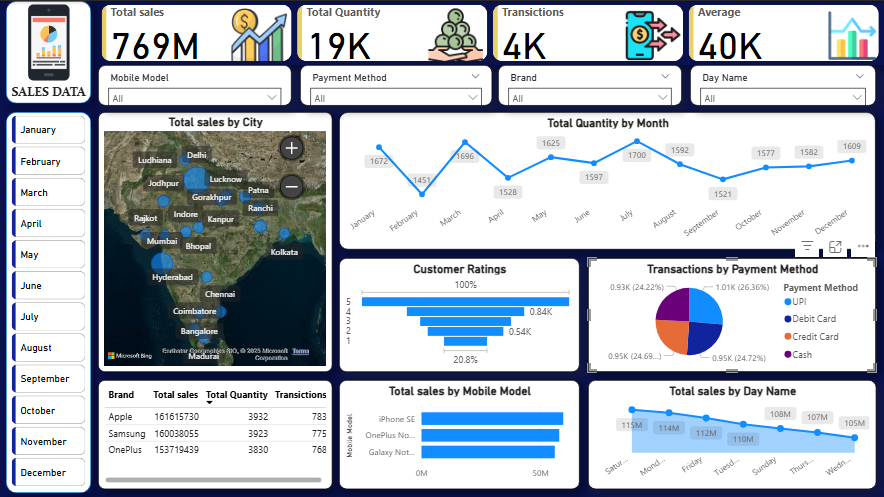

This screenshot's page, from the dashboard's own definition file:
{"tool":"powerbi","page":{"name":"Page 1","canvas":[1280,720],"ordinal":0},"visuals":[{"type":"cardVisual","fields":{"Data":["Sheet1.Total sales","Sheet1.Total Quantity","Sheet1.Transictions","Avg(Sheet1.Price Per Unit)"]},"box":[143.2,0,1136.8,92.6],"z":0},{"type":"shape","box":[10.1,0,122.9,148.2],"z":1000},{"type":"shape","box":[10.1,160,122.9,550.7],"z":2000},{"type":"advancedSlicerVisual","fields":{"Values":["Sheet1.Date.Variation.Date Hierarchy.Month"]},"box":[13.5,160,117.9,550.7],"z":3000},{"type":"map","fields":{"Category":["Sheet1.City"],"Size":["Sheet1.Total sales"]},"box":[143.2,160,338.5,375.6],"z":4000},{"type":"tableEx","fields":{"Values":["Sheet1.Brand","Sheet1.Total sales","Sheet1.Total Quantity","Sheet1.Transictions"]},"box":[142.8,547.6,339.3,157.9],"z":5000},{"type":"lineChart","fields":{"Y":["Sheet1.Total Quantity"],"Category":["Sheet1.Date.Variation.Date Hierarchy.Month","Sheet1.Date.Variation.Date Hierarchy.Day"]},"box":[491.8,160,776.4,198.7],"z":6000},{"type":"funnel","title":" Customer Ratings ","fields":{"Category":["Sheet1.Customer Ratings"],"Y":["CountNonNull(Sheet1.Customer Ratings)"]},"box":[492.2,371.2,347.7,164.6],"z":7000},{"type":"pieChart","title":" Transactions by Payment Method","fields":{"Y":["CountNonNull(Sheet1.Transaction ID)"],"Category":["Sheet1.Payment Method"]},"box":[851.7,371.2,416.6,164.6],"z":8000},{"type":"barChart","fields":{"Y":["Sheet1.Total sales"],"Category":["Sheet1.Mobile Model"]},"box":[492.2,547.6,347.7,157.9],"z":9000},{"type":"areaChart","fields":{"Y":["Sheet1.Total sales"],"Category":["Sheet1.Day Name"]},"box":[852,548,417,158],"z":10000},{"type":"slicer","fields":{"Values":["Sheet1.Mobile Model"]},"box":[143.2,92.6,279.6,58.9],"z":11000},{"type":"slicer","fields":{"Values":["Sheet1.Payment Method"]},"box":[434.5,92.6,277.9,58.9],"z":12000},{"type":"slicer","fields":{"Values":["Sheet1.Brand"]},"box":[720.8,92.6,266.1,58.9],"z":13000},{"type":"slicer","fields":{"Values":["Sheet1.Day Name"]},"box":[998.7,92.6,269.5,58.9],"z":14000},{"type":"image","box":[0,0,143.1,120],"z":15000},{"type":"textbox","box":[13.5,114.5,143.2,65.7],"z":16000}]}

Visuals, with their boxes in screenshot pixels (x1, y1, x2, y2), scaled from the page's 1280x720 canvas onto the 884x497 screenshot:
cardVisual - Sheet1.Total sales x Sheet1.Total Quantity: (99,0,883,64)
shape: (7,0,92,102)
shape: (7,110,92,491)
advancedSlicerVisual - Sheet1.Date.Variation.Date Hierarchy.Month: (9,110,91,491)
map - Sheet1.City x Sheet1.Total sales: (99,110,333,370)
tableEx - Sheet1.Brand x Sheet1.Total sales: (99,378,333,487)
lineChart - Sheet1.Total Quantity x Sheet1.Date.Variation.Date Hierarchy.Month: (340,110,876,248)
" Customer Ratings " funnel: (340,256,580,370)
" Transactions by Payment Method" pieChart: (588,256,876,370)
barChart - Sheet1.Total sales x Sheet1.Mobile Model: (340,378,580,487)
areaChart - Sheet1.Total sales x Sheet1.Day Name: (588,378,876,487)
slicer - Sheet1.Mobile Model: (99,64,292,105)
slicer - Sheet1.Payment Method: (300,64,492,105)
slicer - Sheet1.Brand: (498,64,682,105)
slicer - Sheet1.Day Name: (690,64,876,105)
image: (0,0,99,83)
textbox: (9,79,108,124)
